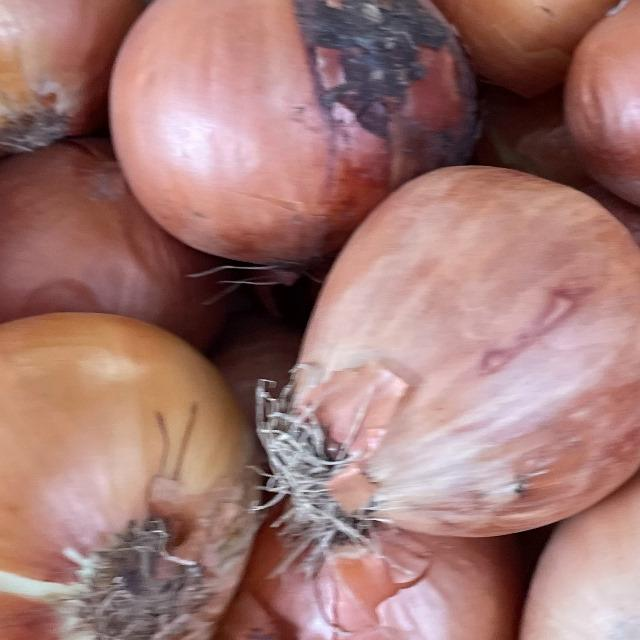onion: (237, 140, 640, 567), (0, 305, 275, 640)
